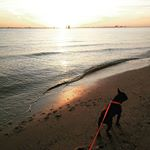puppy: (92, 85, 131, 147)
